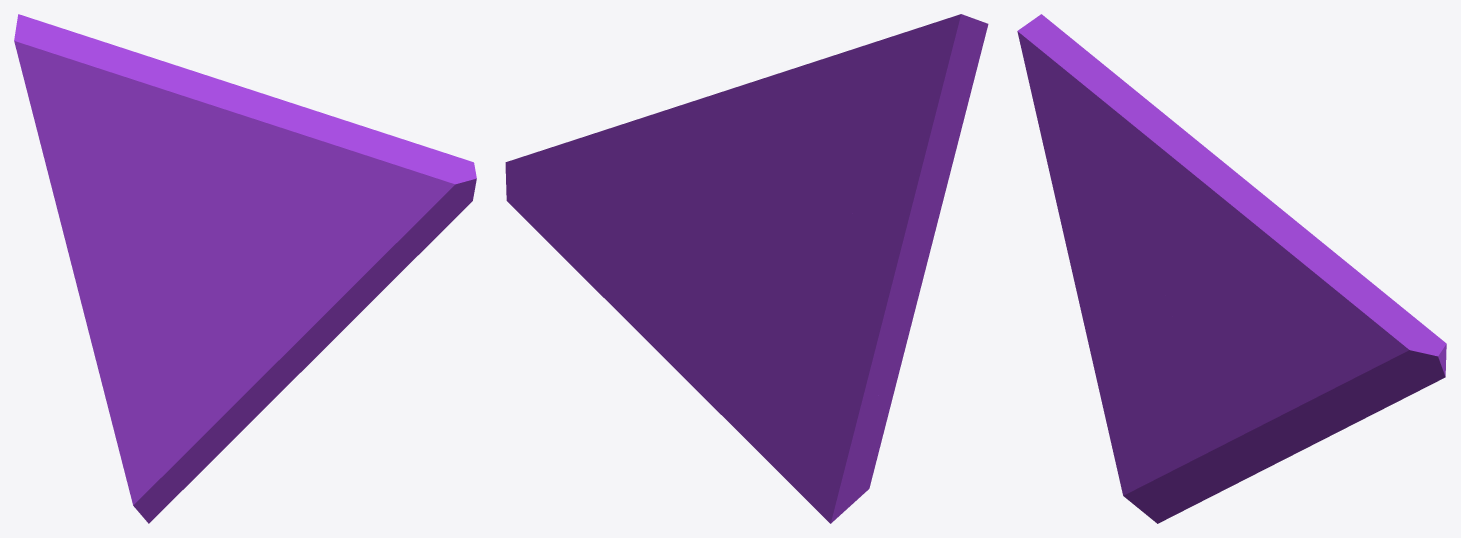
Rendered from Glass_83_2_0_chunks.fbx.
The picture shows the model from 3 angles, left to right: view 1: azimuth 30°, elevation 25°; view 2: azimuth 150°, elevation 25°; view 3: azimuth 330°, elevation 25°; orthographic projection. The views are drawn at different scales.
Parts seen in each view (by area): view 1: Glass_83_2_0_1, Glass_83_2_0_2, Glass_83_2_0_5, Glass_83_2_0_7, Glass_83_2_0_6, Glass_83_2_0_4, Glass_83_2_0_9, Glass_83_2_0_3, Glass_83_2_0_8, Glass_83_2_0_0; view 2: Glass_83_2_0_1, Glass_83_2_0_2, Glass_83_2_0_5, Glass_83_2_0_3, Glass_83_2_0_7, Glass_83_2_0_6, Glass_83_2_0_9, Glass_83_2_0_4; view 3: Glass_83_2_0_1, Glass_83_2_0_2, Glass_83_2_0_5, Glass_83_2_0_7, Glass_83_2_0_6, Glass_83_2_0_4, Glass_83_2_0_9, Glass_83_2_0_3, Glass_83_2_0_8, Glass_83_2_0_0.
Boxes of the visible parts, x1,y1,x2,y2 form: Glass_83_2_0_1: (110, 233, 422, 523); Glass_83_2_0_2: (250, 89, 476, 250); Glass_83_2_0_5: (15, 14, 269, 191); Glass_83_2_0_7: (71, 227, 181, 414); Glass_83_2_0_6: (14, 36, 108, 262); Glass_83_2_0_4: (179, 146, 271, 313); Glass_83_2_0_9: (86, 99, 188, 206); Glass_83_2_0_3: (132, 254, 202, 390); Glass_83_2_0_8: (103, 201, 186, 236); Glass_83_2_0_0: (263, 161, 308, 247); Glass_83_2_0_1: (557, 224, 892, 523); Glass_83_2_0_2: (505, 89, 729, 250); Glass_83_2_0_5: (721, 14, 983, 185); Glass_83_2_0_3: (736, 177, 879, 395); Glass_83_2_0_7: (820, 210, 931, 398); Glass_83_2_0_6: (886, 22, 988, 245); Glass_83_2_0_9: (810, 94, 911, 216); Glass_83_2_0_4: (711, 151, 765, 251); Glass_83_2_0_1: (1102, 323, 1400, 523); Glass_83_2_0_2: (1241, 181, 1446, 399); Glass_83_2_0_5: (1021, 14, 1247, 240); Glass_83_2_0_7: (1068, 235, 1166, 404); Glass_83_2_0_6: (1017, 28, 1101, 252); Glass_83_2_0_4: (1164, 235, 1246, 355); Glass_83_2_0_9: (1081, 114, 1172, 252); Glass_83_2_0_3: (1122, 292, 1184, 393); Glass_83_2_0_8: (1096, 215, 1170, 277); Glass_83_2_0_0: (1239, 250, 1278, 329).
Bounding box in the file's own units: 642 × 705 × 27.2.
